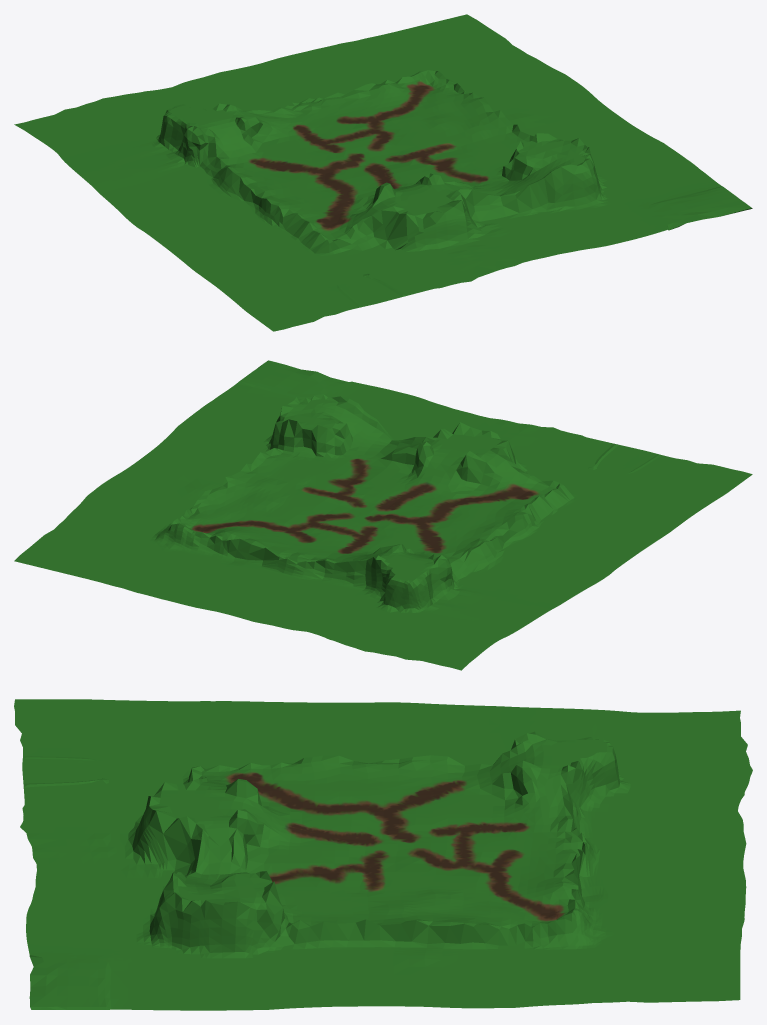
Rendered from Terrain.v.2.7.fbx.
The picture shows the model from 3 angles, top to bottom: view 1: azimuth 30°, elevation 25°; view 2: azimuth 150°, elevation 25°; view 3: azimuth 270°, elevation 25°; orthographic projection. The views are drawn at different scales.
Parts seen in each view (by area): view 1: BSurfaceMesh; view 2: BSurfaceMesh; view 3: BSurfaceMesh.
Boxes of the visible parts, x1,y1,x2,y2 form: BSurfaceMesh: [14, 14, 752, 331]; BSurfaceMesh: [14, 360, 752, 670]; BSurfaceMesh: [14, 699, 752, 1010].
Size of the model in its own units: 155 by 12.13 by 156.
